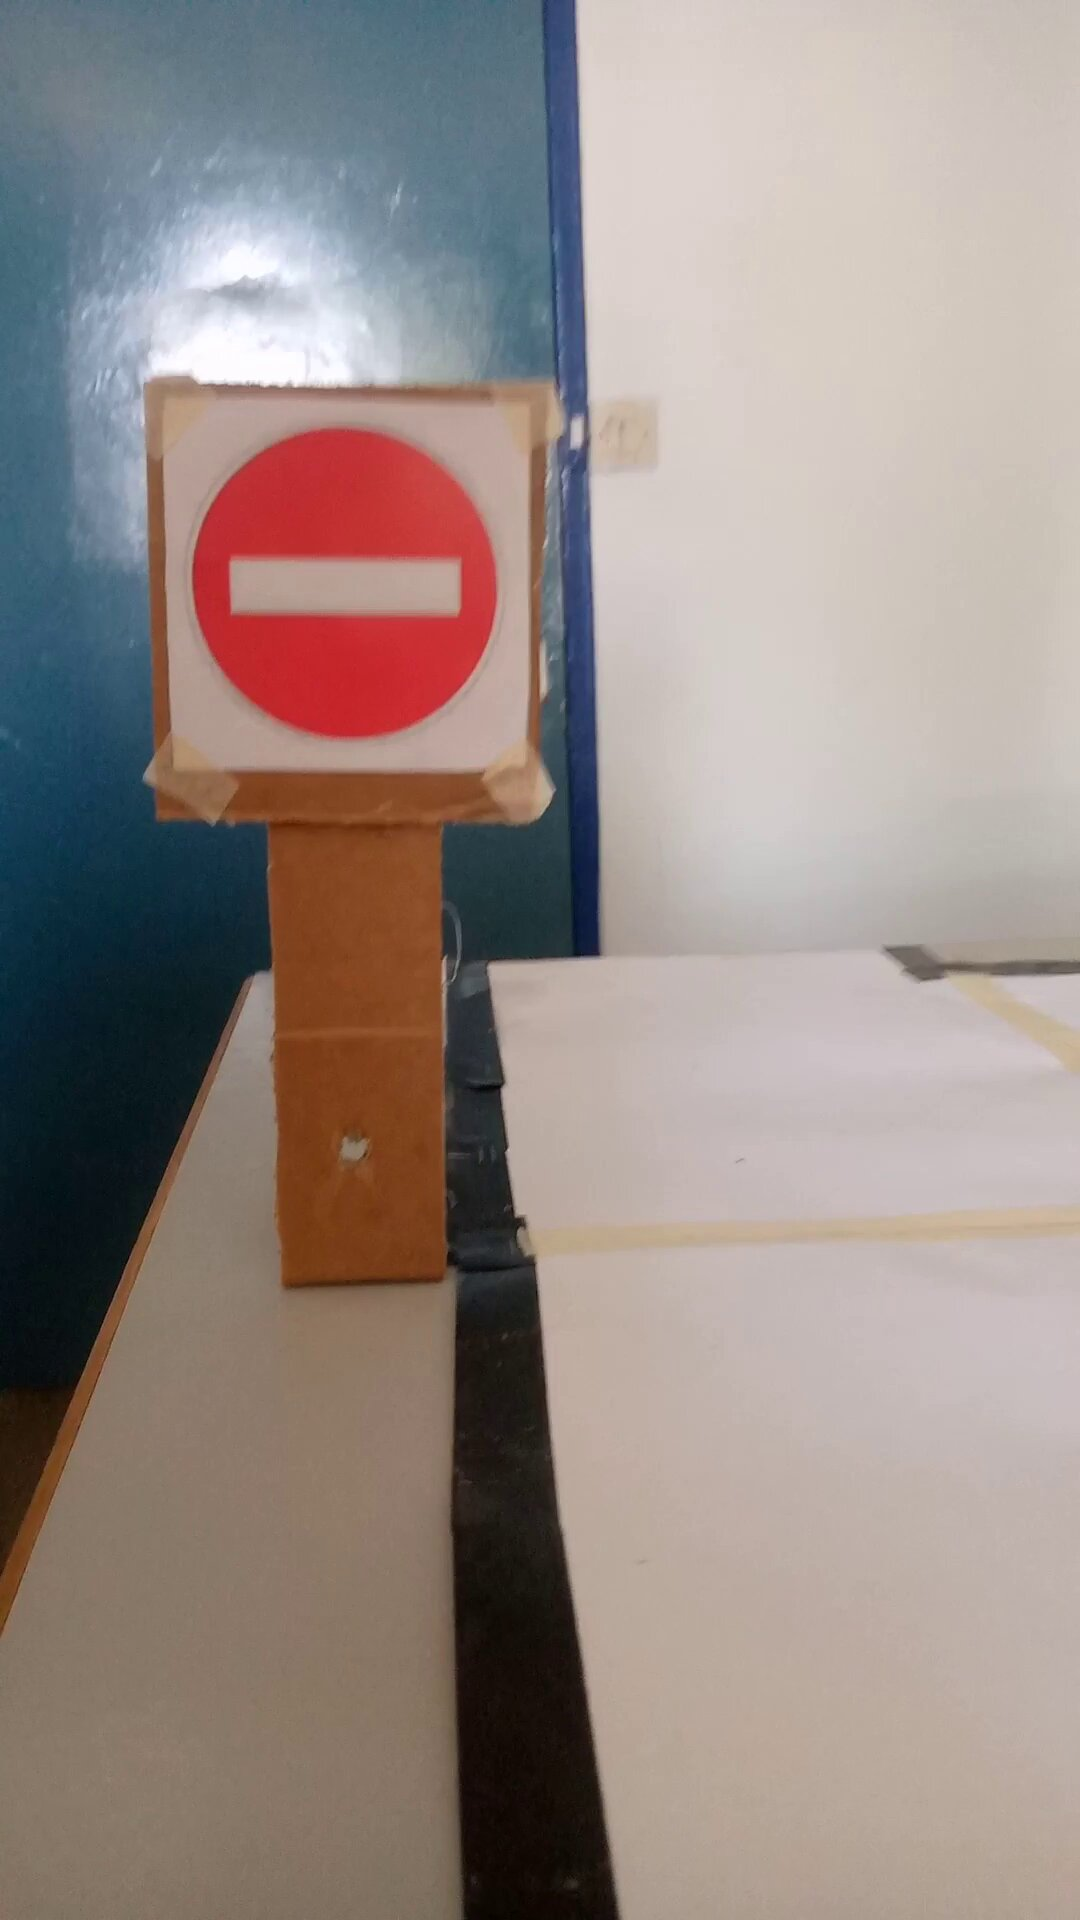panel010: (135, 377, 558, 823)
